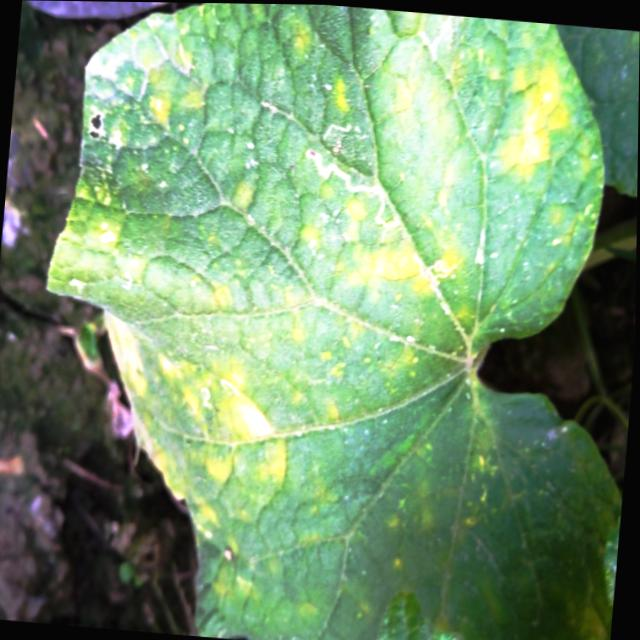Downy-Mildew: (57, 3, 599, 640)
